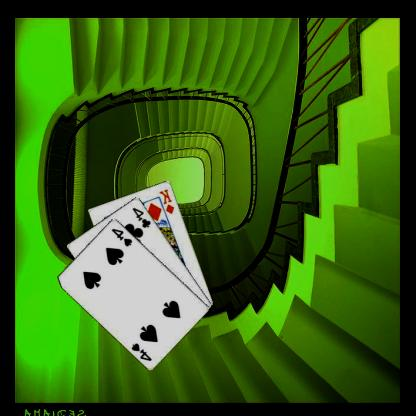4C: (132, 205, 153, 229)
4S: (130, 340, 154, 362), (111, 226, 135, 247)
KD: (158, 186, 178, 215)
